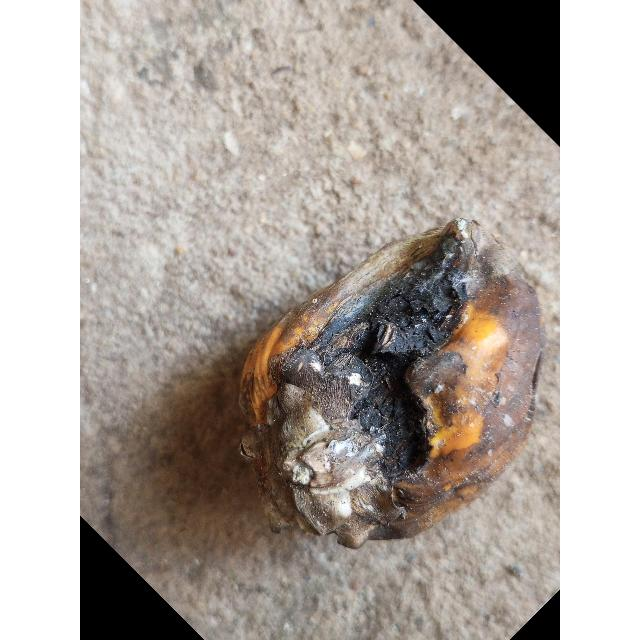damaged: (240, 219, 542, 548)
